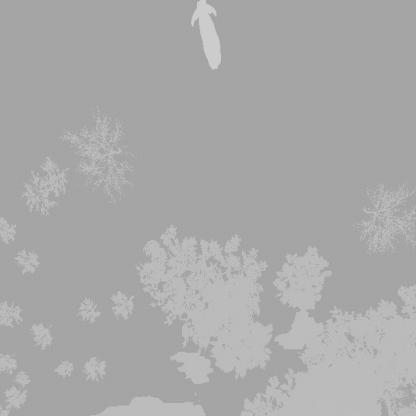rehkitze: (190, 1, 226, 72)
